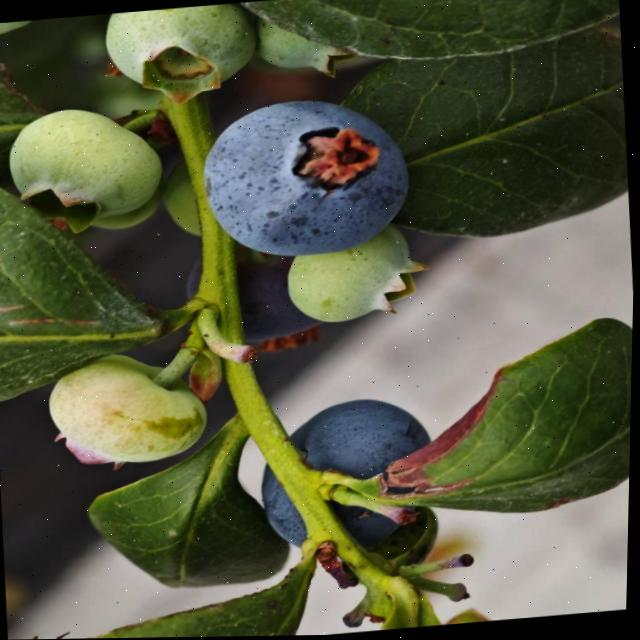RipeBlueBerry: (195, 89, 417, 264), (251, 391, 444, 559)
UnripeBlueBerry: (42, 343, 216, 476), (1, 99, 169, 229), (99, 0, 265, 107), (282, 220, 429, 327)
